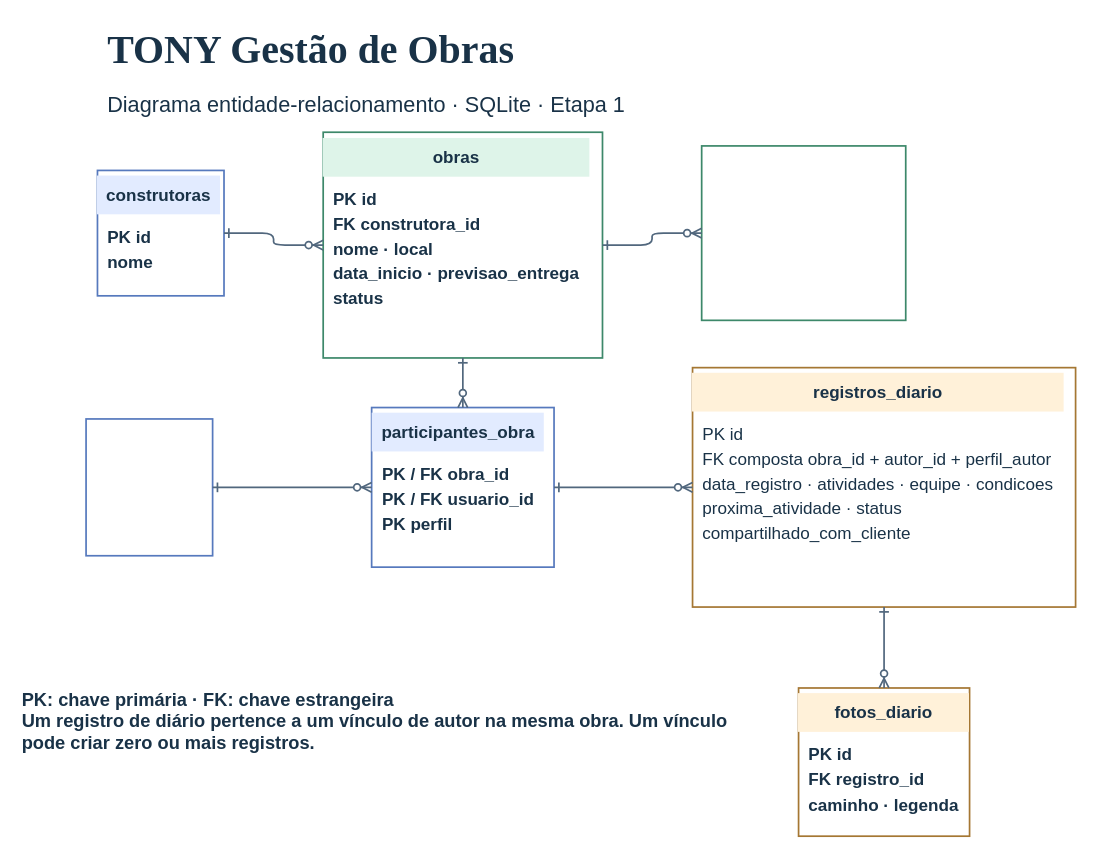
Image size: 1096x856. Some labels were removed from this diagram. Each missing label, with the centre of its shape:
"etapas PK id FK obra_id nome · ordem · prazo progresso" goes at pixel 803 233.
"usuarios PK id nome · email" goes at pixel 149 487.
